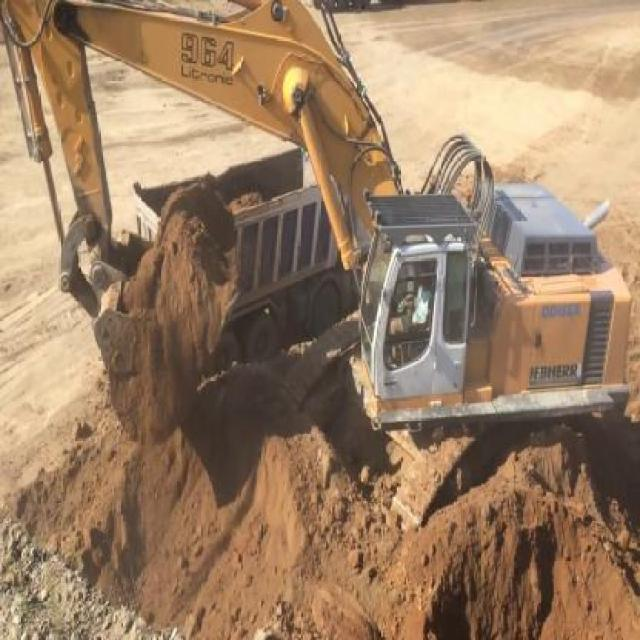Dump Truck: (130, 142, 356, 360)
Excavator: (0, 0, 632, 521)
